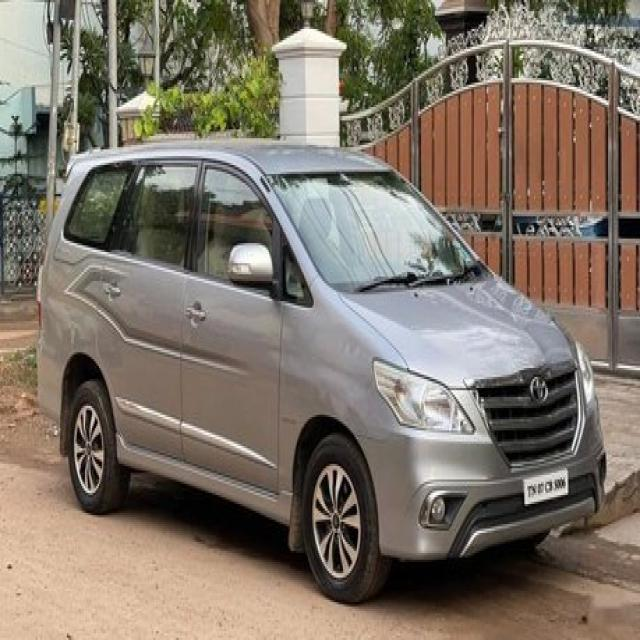light_vehicle: (35, 136, 608, 604)
